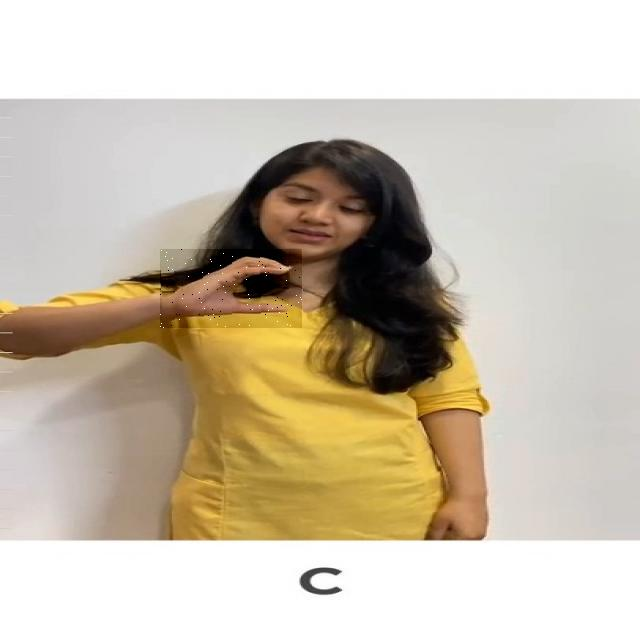C: (160, 249, 302, 328)
